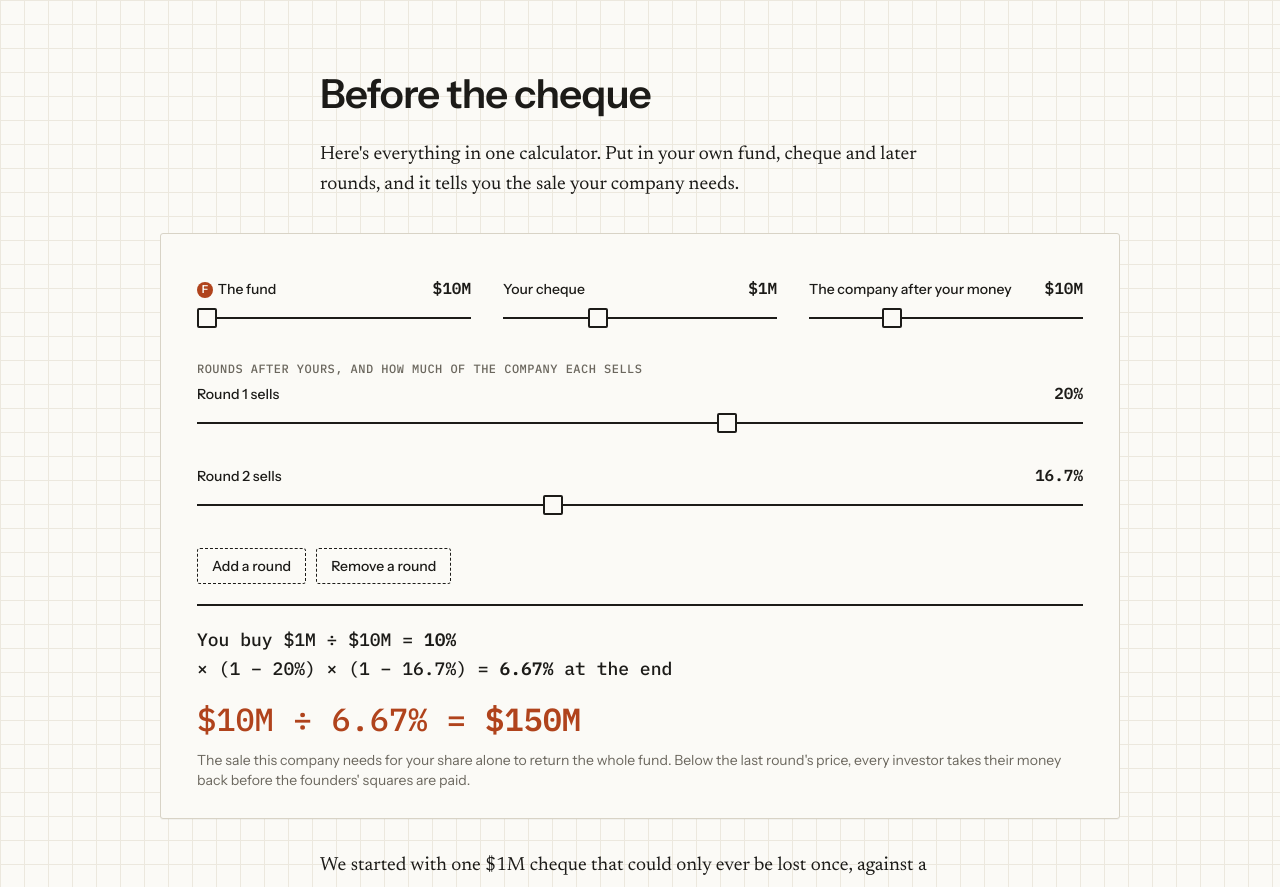
it: The napkin › scales with the fund
Set the slider labelled "F The fund" to "3" at coordinates (316, 318), box 197,304 -> 471,332
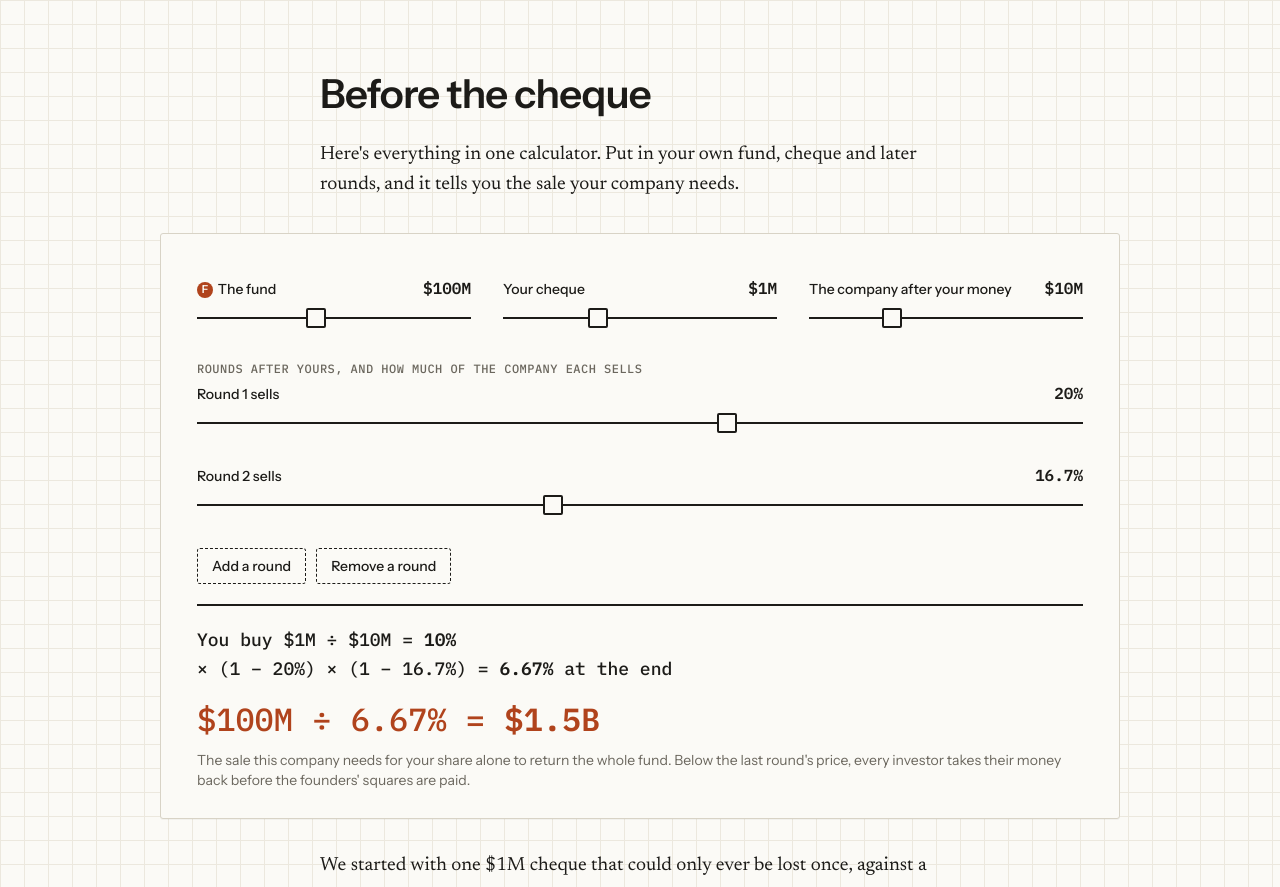
Expected: the text with test id "napkin-exit" reads "$1.5B", 504,698 -> 600,740
